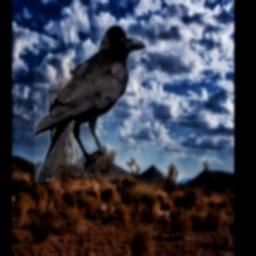Crow: (34, 25, 147, 183)
